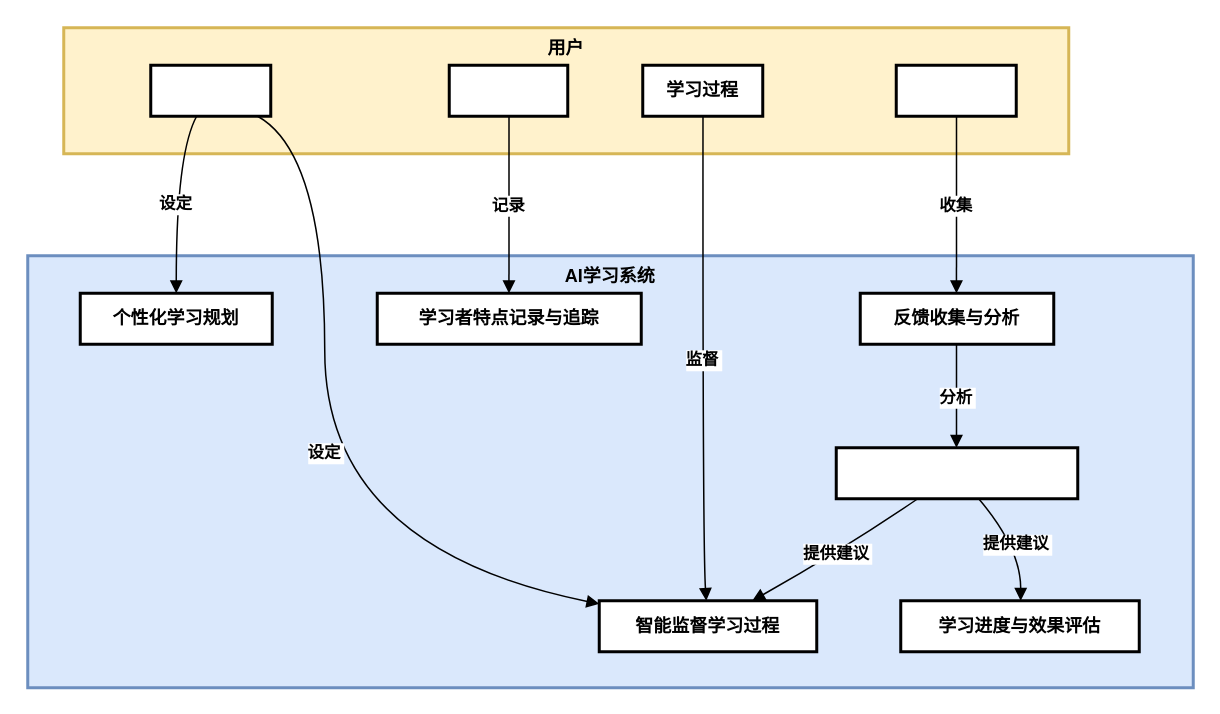
Some shapes in this 1220 by 714 pixel diagram are drawn without their labels. The centre of each missing label's shape, as x and y in pixels:
"学习反馈" belongs at point (955, 90).
"学习特点" belongs at point (507, 90).
"学习目标" belongs at point (210, 90).
"智能分析与建议提供" belongs at point (956, 473).
